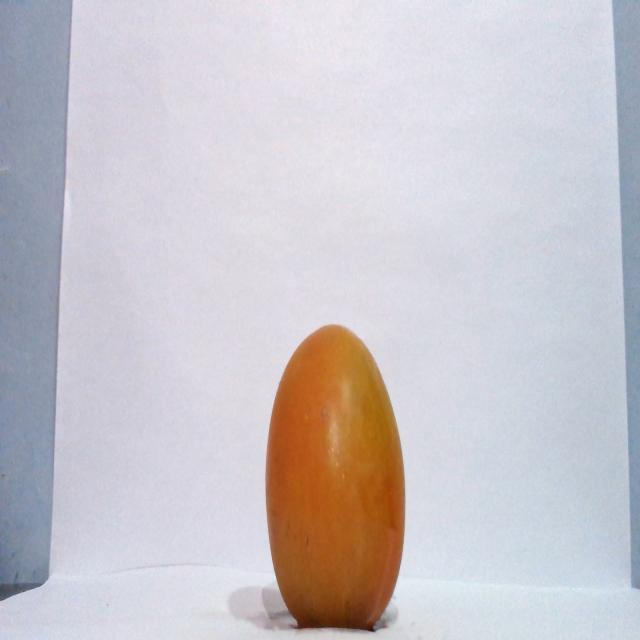Red: (263, 322, 406, 630)
